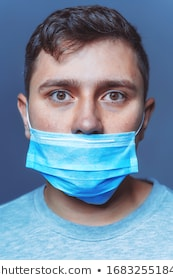mask_weared_incorrect: (32, 72, 145, 191)
